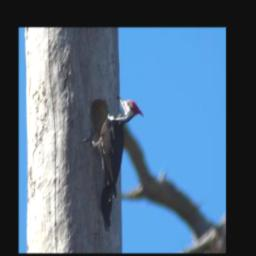Woodpecker: (80, 94, 144, 232)
